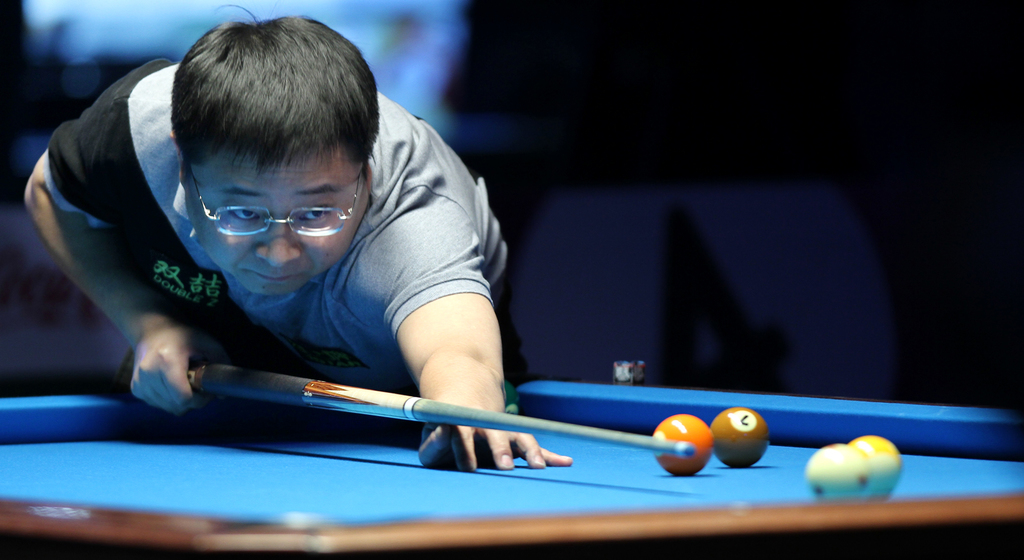Ball: (648, 411, 712, 473), (713, 409, 769, 469), (849, 436, 903, 498), (808, 447, 867, 502)
